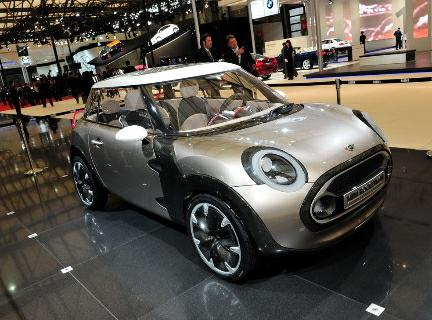MINI-ROCKETMAN: (56, 53, 401, 284)
